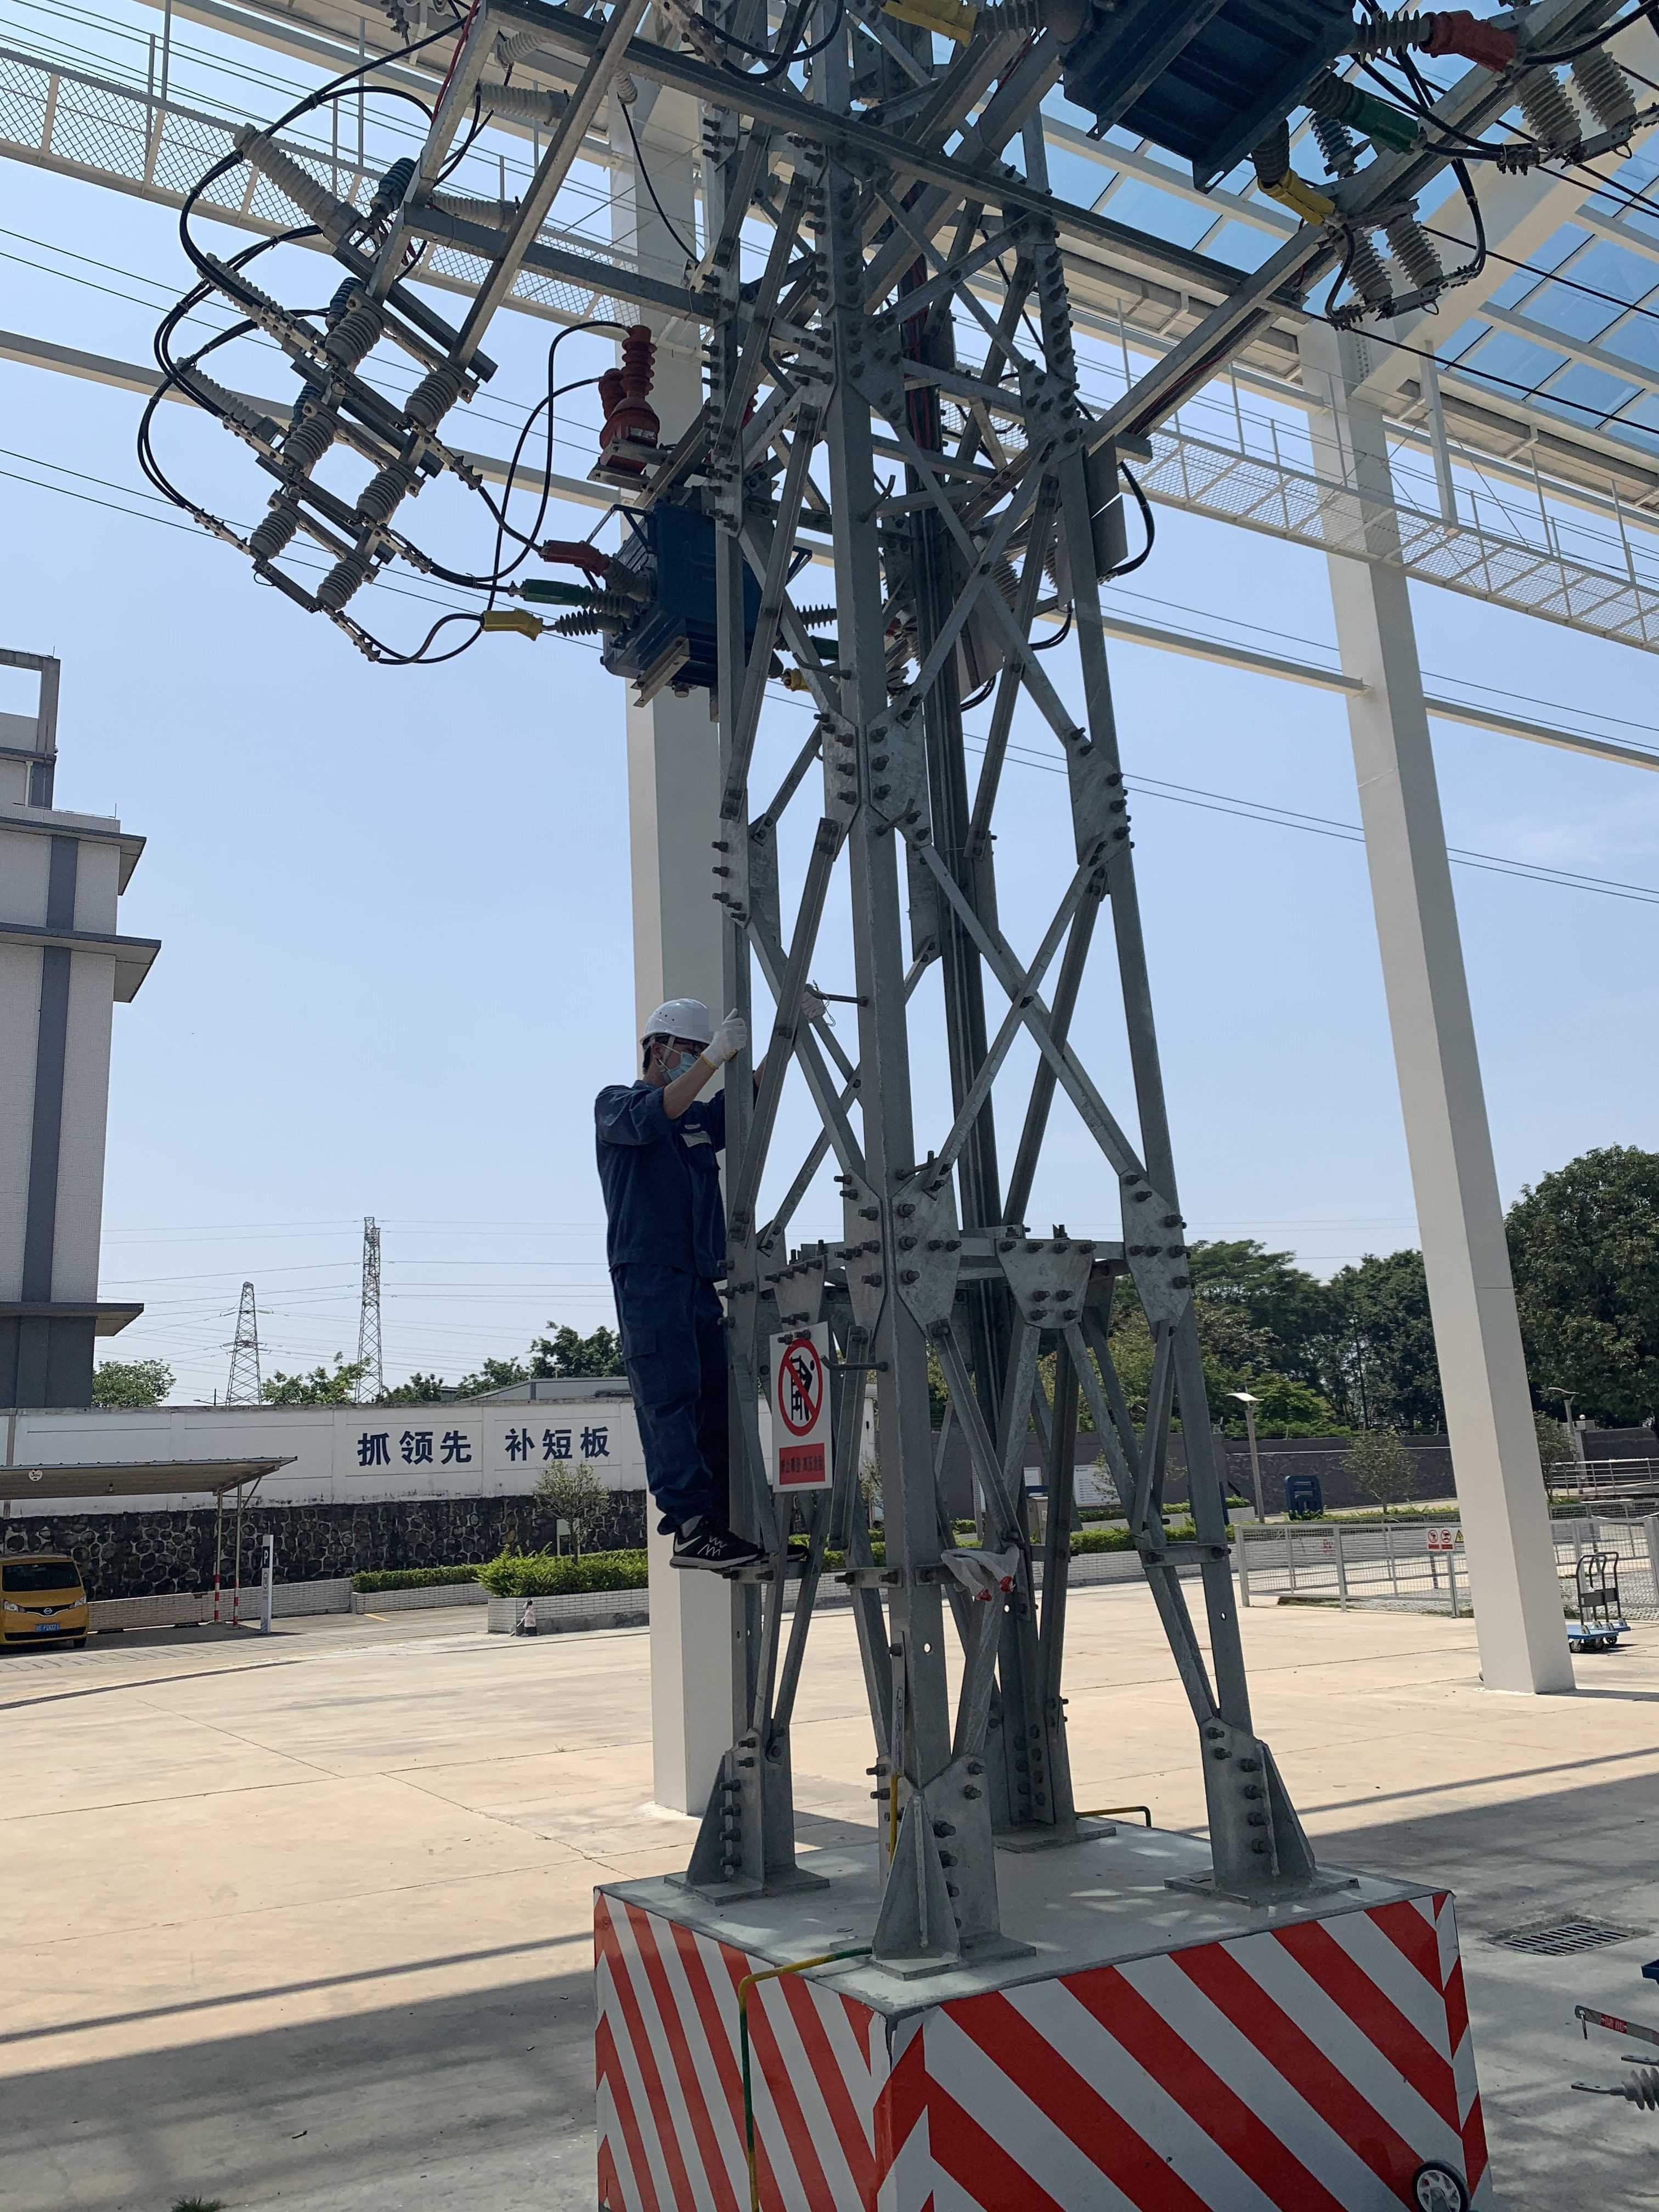downsuit: (613, 1282, 730, 1531)
upsuit: (594, 1080, 730, 1278)
wrongtop: (648, 1054, 730, 1120)
